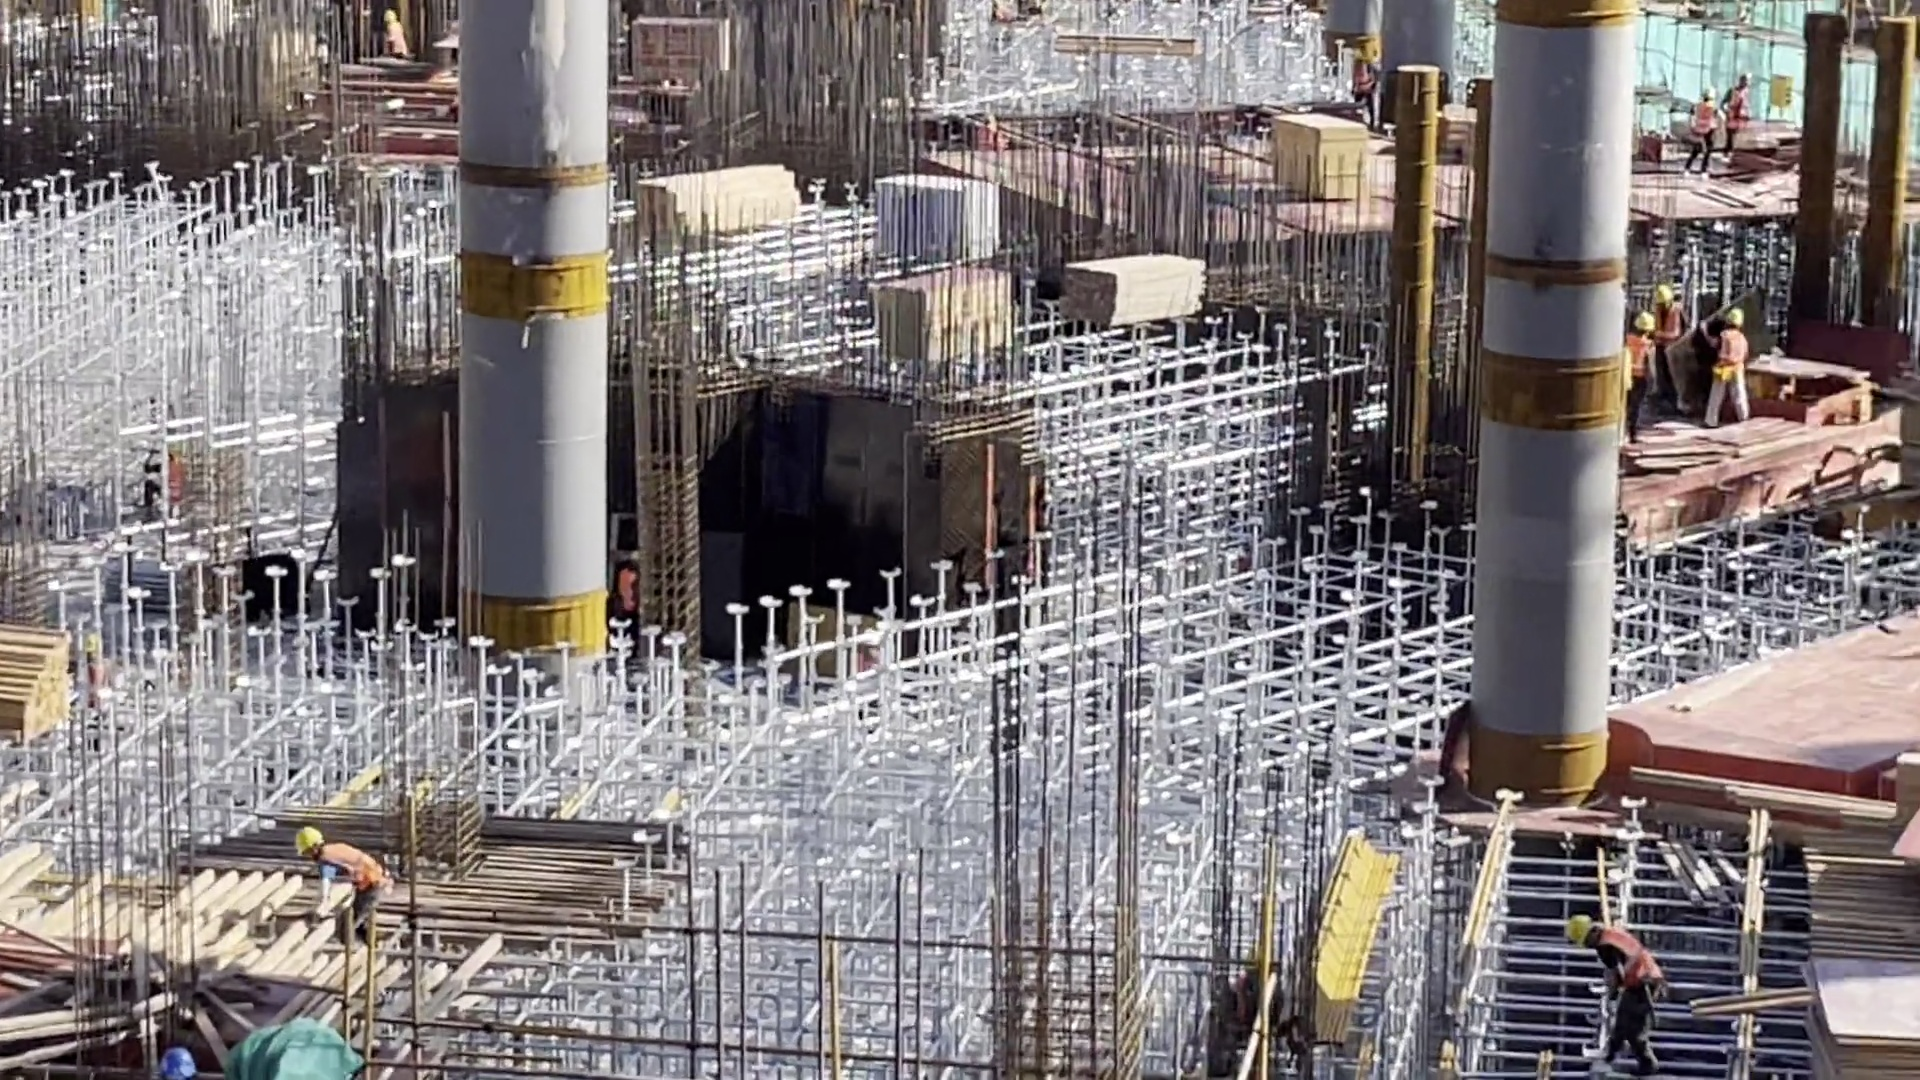helmet: (155, 1039, 201, 1080), (1564, 915, 1594, 947), (286, 824, 318, 852), (1631, 311, 1660, 334), (1647, 285, 1676, 304), (1724, 304, 1746, 327)
person: (1558, 913, 1665, 1067), (287, 825, 393, 948), (1699, 304, 1756, 424), (1625, 310, 1662, 438), (1685, 88, 1721, 185), (611, 548, 644, 638), (1646, 279, 1692, 336), (1730, 67, 1753, 157), (374, 12, 406, 57)
vest: (325, 844, 396, 910), (1596, 926, 1662, 988), (1715, 326, 1747, 374), (1624, 333, 1653, 383), (616, 570, 639, 617), (1655, 304, 1681, 338)
